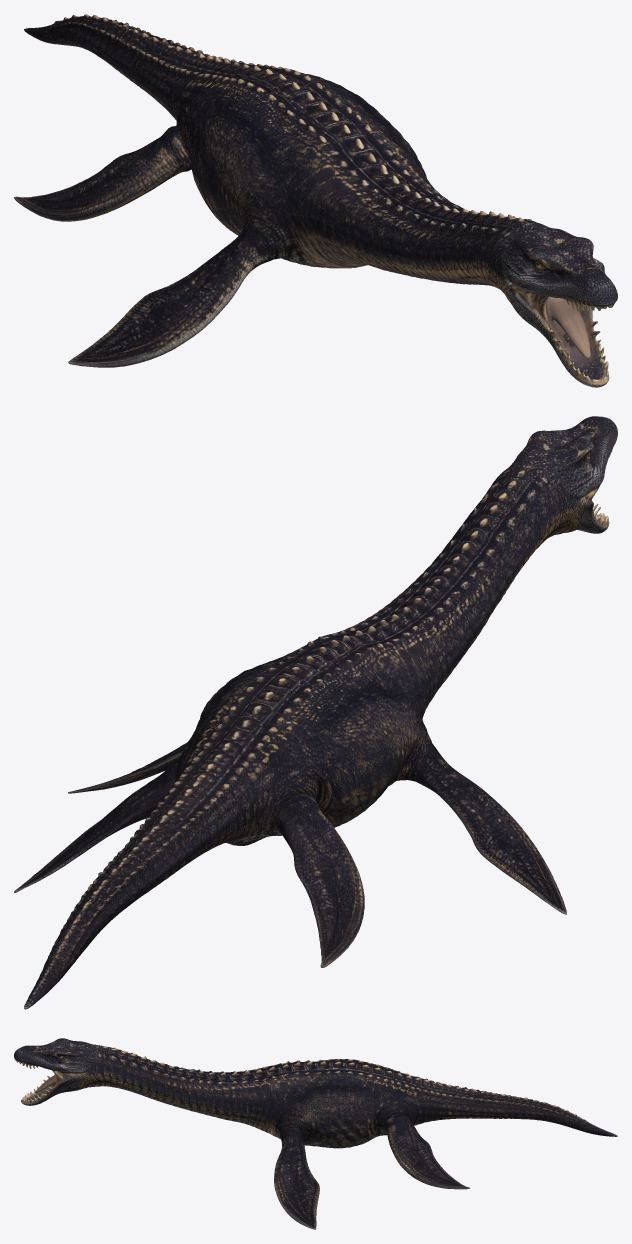
The model's file is plesiosaurus.glb.
3 views of the same model, one above another, from view 1: azimuth 30°, elevation 25°; view 2: azimuth 150°, elevation 25°; view 3: azimuth 270°, elevation 25° (orthographic). The views are drawn at different scales.
Parts seen in each view (by area): view 1: Mesh_0; view 2: Mesh_0; view 3: Mesh_0.
Boxes of the visible parts, bbox=[...] form: Mesh_0: bbox=[14, 14, 617, 387]; Mesh_0: bbox=[14, 416, 617, 1009]; Mesh_0: bbox=[14, 1038, 617, 1229].
Bounding box in the file's own units: 0.9357 × 0.4263 × 1.9.
1 material, 1 textured.
